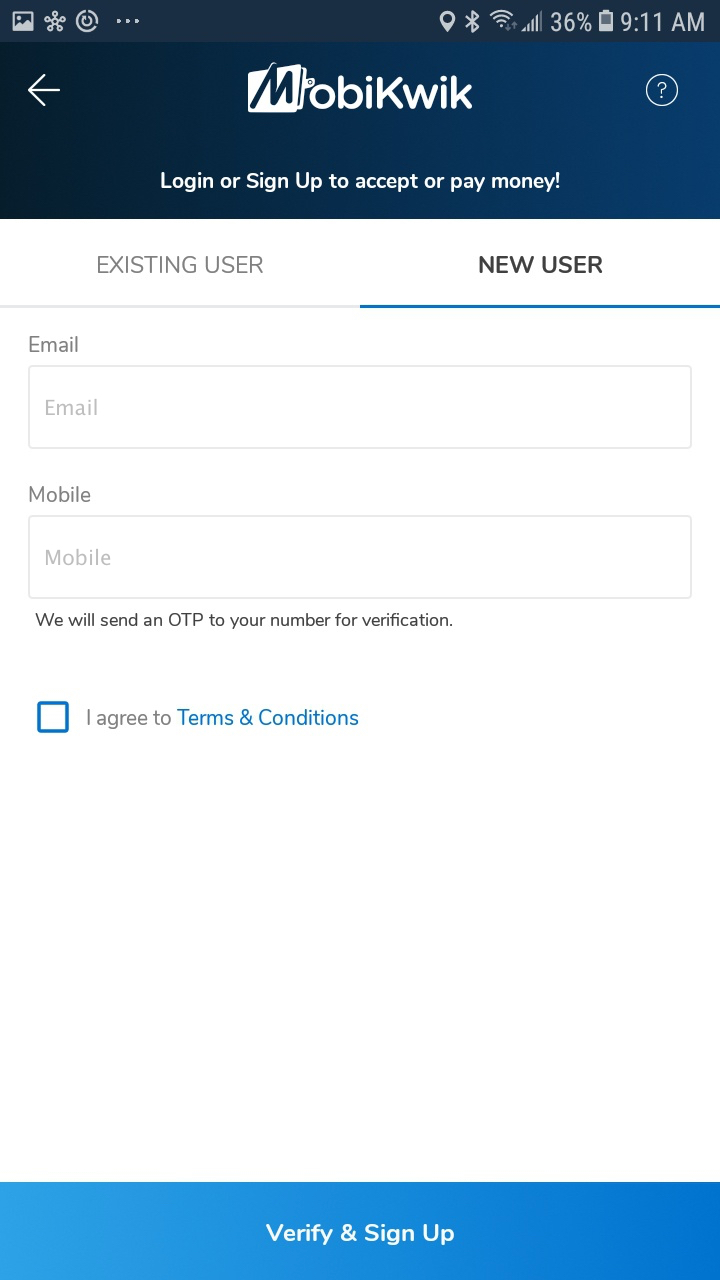CheckedTextView: (37, 701, 359, 734)
EditText: (28, 365, 692, 450), (28, 515, 692, 600)
Icon: (28, 74, 61, 108), (646, 75, 679, 108)
Image: (248, 63, 473, 115)
Text: (161, 172, 560, 194), (35, 612, 453, 630), (87, 709, 359, 730), (98, 256, 264, 275), (479, 256, 603, 274), (46, 548, 111, 566), (29, 485, 92, 503), (47, 399, 99, 417), (29, 336, 79, 354)
TextButton: (1, 1182, 720, 1280)
UpperTaskBar: (1, 1, 720, 43)
